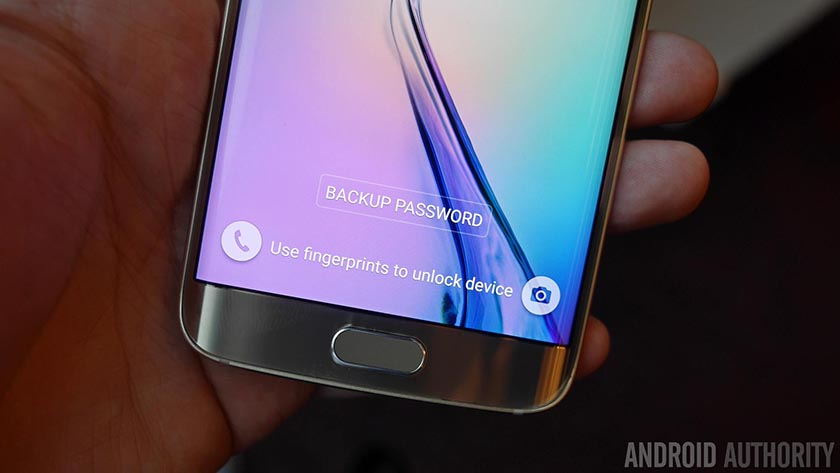Cell Phone: (205, 3, 640, 421)
